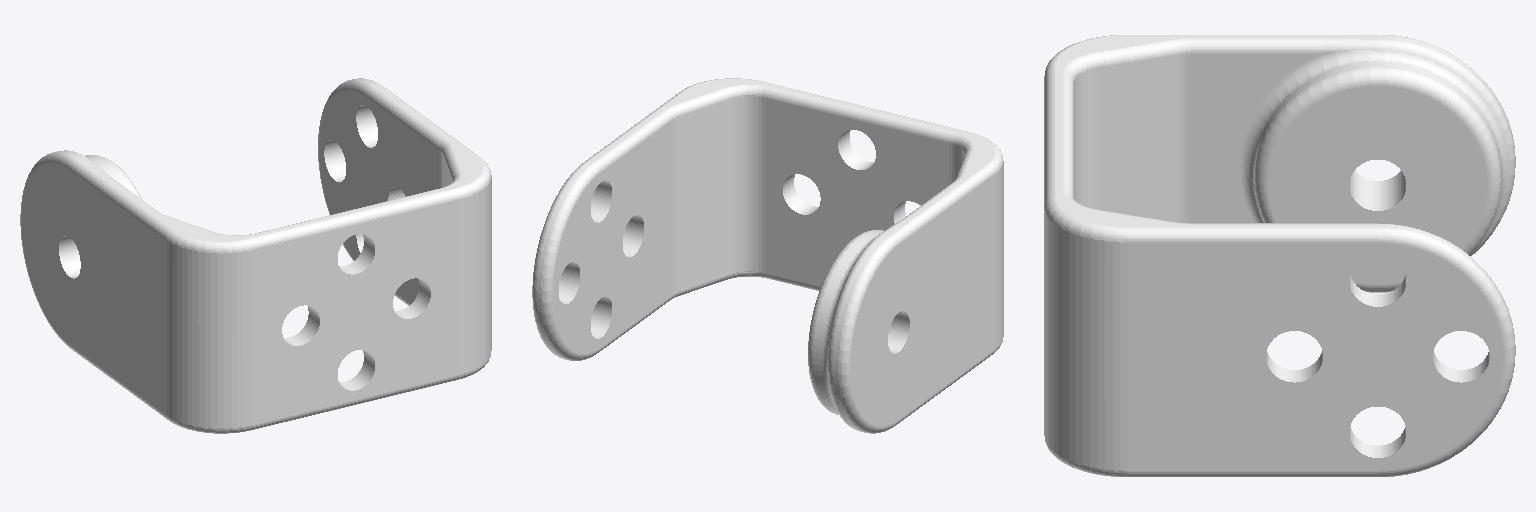
The robot description file, URDF, robot "PoppyErgoJr":
<robot
  name="PoppyErgoJr">
  <link
    name="base_link">
    <inertial>
      <origin
        xyz="-0.00273845833301537 0.00821639745723966 -0.0338977122062889"
        rpy="0 0 0" />
      <mass
        value="0.0802410895423366" />
      <inertia
        ixx="0.00011430194806305"
        ixy="-1.74777682977282E-06"
        ixz="7.8063859003738E-06"
        iyy="0.000177560979735167"
        iyz="6.80763560469771E-06"
        izz="7.51325469990478E-05" />
    </inertial>
    <visual>
      <origin
        xyz="0 0 0"
        rpy="0 0 0" />
      <geometry>
        <mesh
          filename="PoppyErgoJr/meshes/base.stl" />
      </geometry>
      <material
        name="">
        <color
          rgba="0.752941176470588 0.752941176470588 0.752941176470588 1" />
      </material>
    </visual>
    <collision>
      <origin
        xyz="0 0 0"
        rpy="0 0 0" />
      <geometry>
        <mesh
          filename="PoppyErgoJr/meshes/base.stl" />
      </geometry>
    </collision>
  </link>
  <link
    name="long_U">
    <inertial>
      <origin
        xyz="-0.00243058056226709 1.14505937431452E-07 0.0129312523306501"
        rpy="0 0 0" />
      <mass
        value="0.0042118228619085" />
      <inertia
        ixx="5.78707668456099E-07"
        ixy="9.44283869977724E-12"
        ixz="-1.13587476220175E-07"
        iyy="1.25420346852677E-06"
        iyz="4.64830147251523E-12"
        izz="9.27174545760678E-07" />
    </inertial>
    <visual>
      <origin
        xyz="0 0 0"
        rpy="0 0 0" />
      <geometry>
        <mesh
          filename="PoppyErgoJr/meshes/long_U.stl" />
      </geometry>
      <material
        name="">
        <color
          rgba="1 1 1 1" />
      </material>
    </visual>
    <collision>
      <origin
        xyz="0 0 0"
        rpy="0 0 0" />
      <geometry>
        <mesh
          filename="PoppyErgoJr/meshes/long_U.stl" />
      </geometry>
    </collision>
  </link>
  <joint
    name="m1"
    type="continuous">
    <!-- <origin
      xyz="0 0 0.0327993216120967"
      rpy="-6.12303176911189E-17 0 0" /> -->
    <origin
      xyz="0 0 25"
      rpy="0 0 0" />
    <parent
      link="base_link" />
    <child
      link="long_U" />
    <axis
      xyz="0 0 -1" />
  </joint>
  <link
    name="section_1">
    <inertial>
      <origin
        xyz="-0.000168296047337745 0.013441283142678 -3.36410230095056E-09"
        rpy="0 0 0" />
      <mass
        value="0.0201321844066136" />
      <inertia
        ixx="6.51960684491032E-06"
        ixy="-5.35361387413197E-07"
        ixz="-5.67167110473808E-13"
        iyy="2.37206686086462E-06"
        iyz="-1.07202400036876E-12"
        izz="7.46616268702629E-06" />
    </inertial>
    <visual>
      <origin
        xyz="0 0 0"
        rpy="0 0 0" />
      <geometry>
        <!-- <mesh filename="PoppyErgoJr/meshes/section_1.stl" /> -->
        <mesh filename="PoppyErgoJr/meshes/horn2horn.stl" />
      </geometry>
      <material
        name="">
        <color
          rgba="0.752941176470588 0.752941176470588 0.752941176470588 1" />
      </material>
    </visual>
    <visual>
      <origin
        xyz="0 0 0"
        rpy="0 0 3.1415" />
      <geometry>
        <mesh filename="PoppyErgoJr/meshes/horn2horn.stl" />
      </geometry>
      <material
        name="">
        <color
          rgba="0.752941176470588 0.752941176470588 0.752941176470588 1" />
      </material>
    </visual>
    <collision>
      <origin
        xyz="0 0 0"
        rpy="0 0 0" />
      <geometry>
        <!-- <mesh filename="PoppyErgoJr/meshes/section_1.stl" /> -->
        <mesh filename="PoppyErgoJr/meshes/horn2horn.stl" />
      </geometry>
    </collision>
  </link>
  <joint
    name="m2"
    type="continuous">
    <origin
      xyz="0 0 25"
      rpy="0 0 0" />
    <parent
      link="long_U" />
    <child
      link="section_1" />
    <axis
      xyz="-1 0 0" />
  </joint>
</robot>

--- Facts derived from the render (not from the file) ---
The picture shows the robot from 3 angles, left to right: view 1: azimuth 30°, elevation 25°; view 2: azimuth 150°, elevation 25°; view 3: azimuth 270°, elevation 25°; orthographic projection.
Model PoppyErgoJr with 3 links and 2 joints (2 continuous), rooted at base_link, posed every joint at zero.
Visible links, largest first — view 1: long_U; view 2: long_U; view 3: long_U.
Link boxes in pixels (x1,y1,x2,y2): long_U: [20, 78, 491, 433]; long_U: [532, 78, 1003, 433]; long_U: [1044, 35, 1515, 476].
Bounding box of the posed robot: 0.0343 × 0.0339 × 0.0198 m (x, y, z).
Meshes: 3 distinct files referenced, 1 mesh visuals loaded (1 binary STL); not drawn: 3 (reference not matched to a file when rendering).